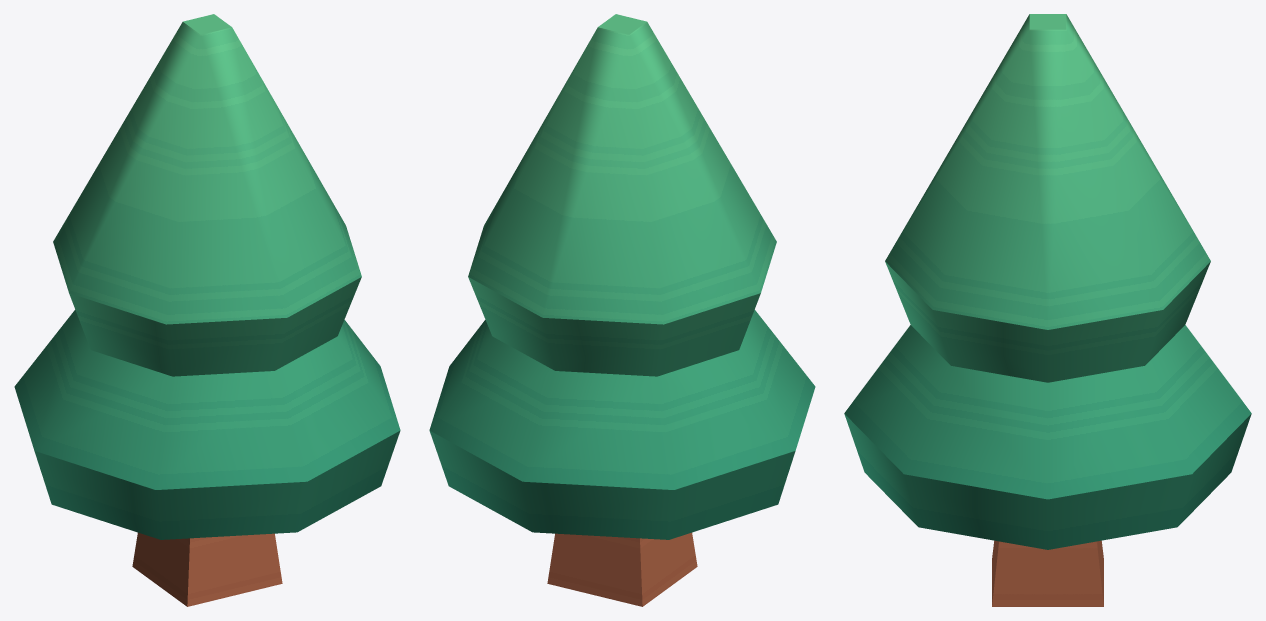
Rendered from detail-tree-large.glb.
3 renders of one model, left to right at view 1: azimuth 30°, elevation 25°; view 2: azimuth 150°, elevation 25°; view 3: azimuth 270°, elevation 25°, orthographic.
Parts seen in each view (by area): view 1: detail-tree-large; view 2: detail-tree-large; view 3: detail-tree-large.
Part boxes in pixels (box(x1,y1,x2,y2)): detail-tree-large: box(14, 14, 400, 606); detail-tree-large: box(429, 14, 815, 606); detail-tree-large: box(844, 14, 1251, 606).
Bounding box in the file's own units: 0.5 × 0.76 × 0.5.
1 material, 1 textured.
